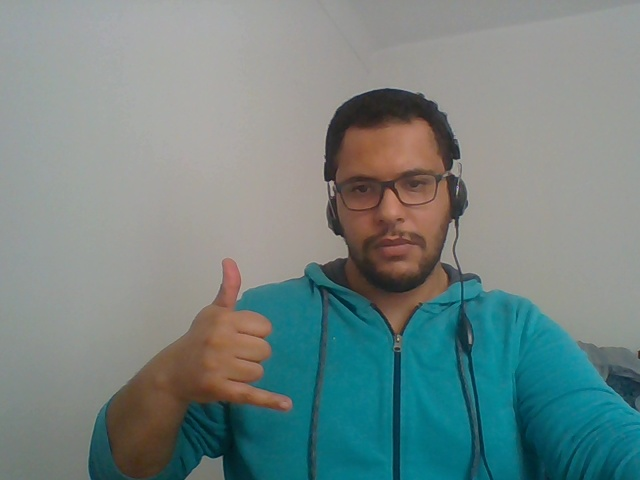callme: (99, 227, 306, 480)
